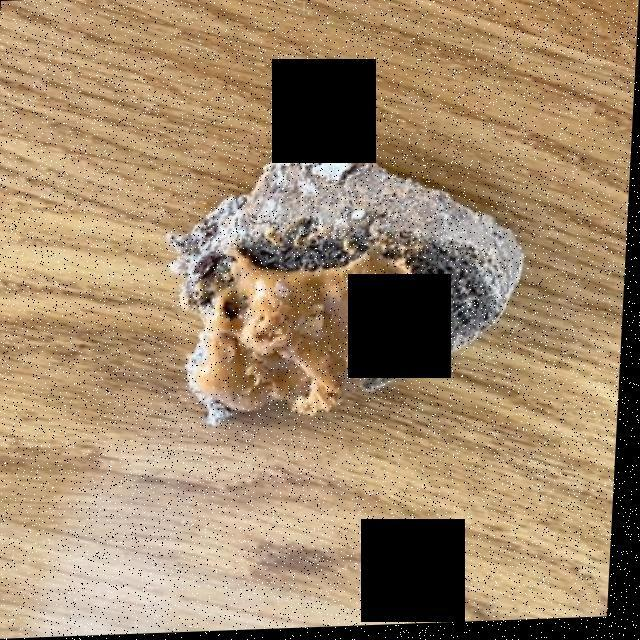bread: (176, 140, 517, 415)
peanut-butter: (212, 250, 416, 398)
